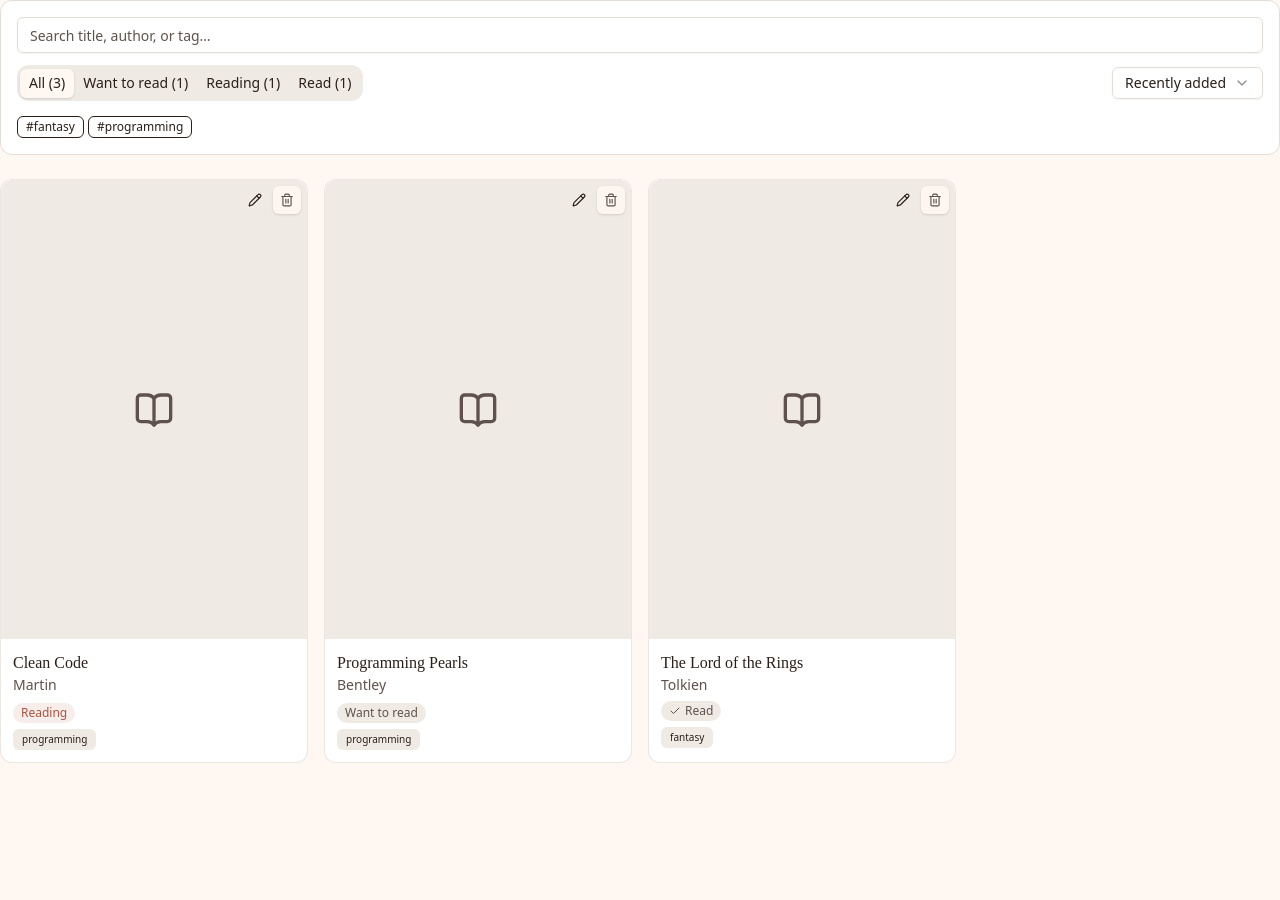
Test case: ShelfList › combined filters (spec 010) › AND-combines search, tags, and status
The width and height of the screenshot is (1280, 900).
// Click "Reading" status tab — only Clean Code (programming) survives.
Click the tab "Reading (1)".
click(243, 83)  # box left=197, top=68, right=289, bottom=98
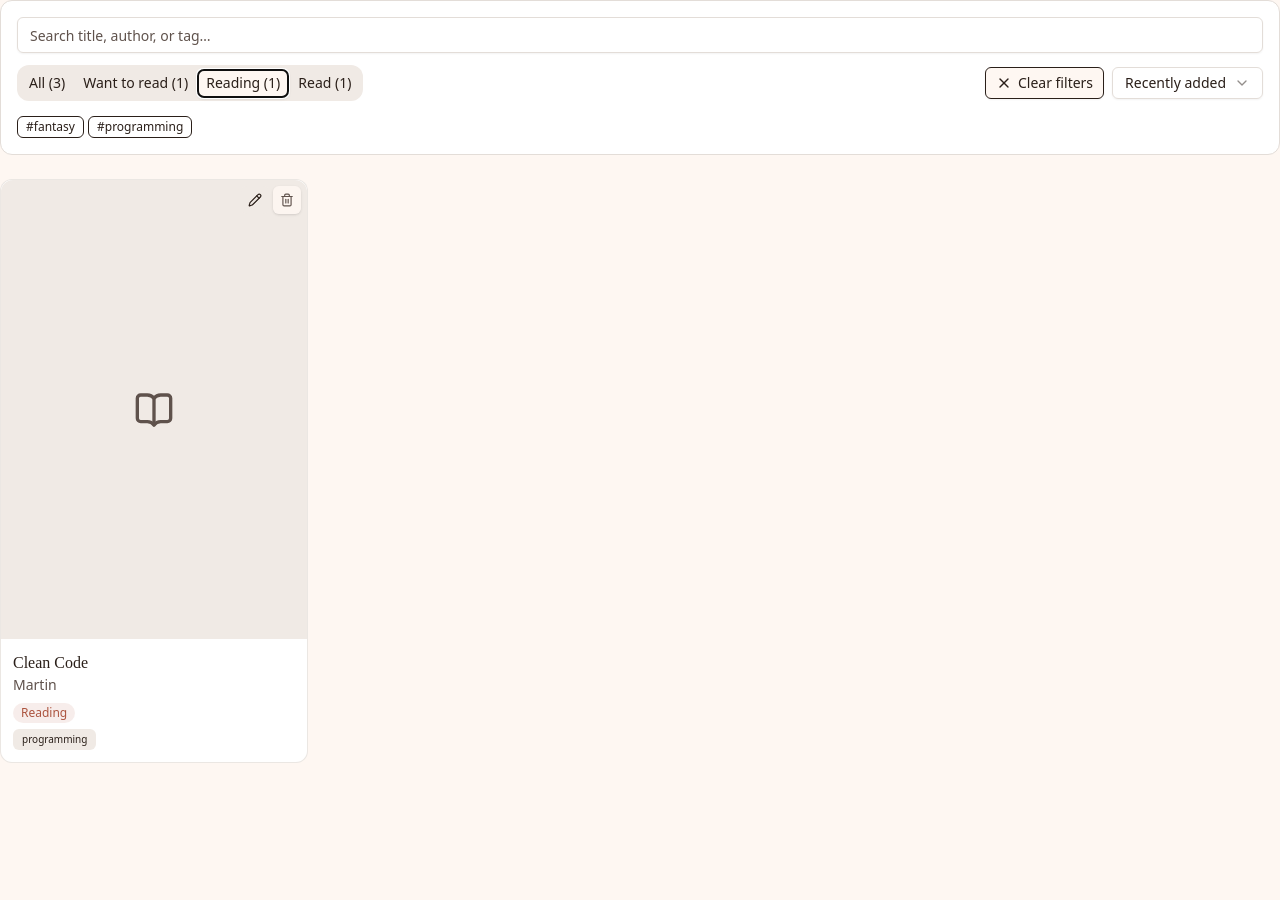
Expected: the heading "Clean Code" is shown, left=13, top=654, right=88, bottom=671
Expected: the link "The Lord of the Rings" is gone
Expected: the link "Programming Pearls" is gone
// Now click the "programming" tag chip — Clean Code still matches.
Click the checkbox with test id "shelf-tag-programming".
click(140, 126)  # box left=88, top=113, right=192, bottom=138
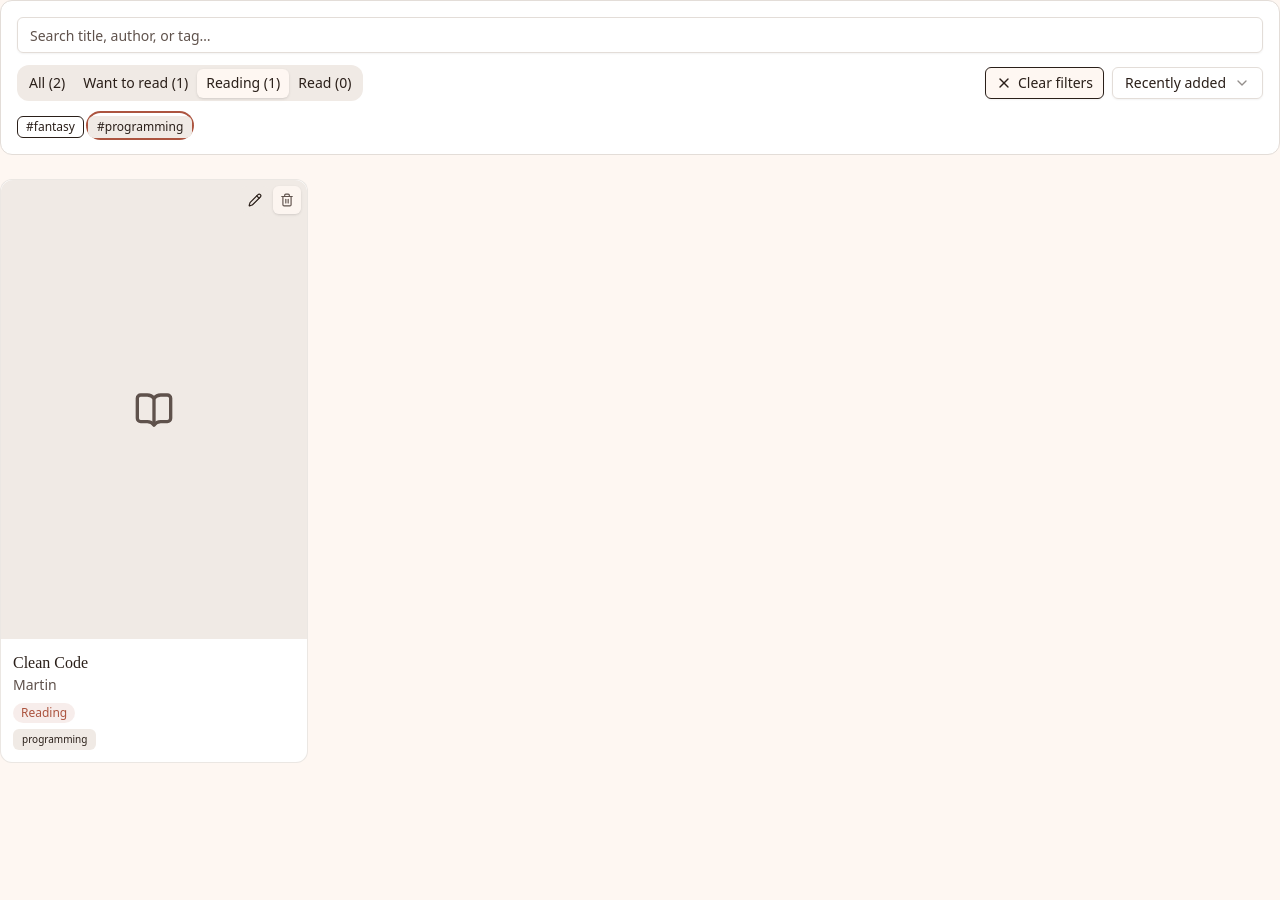
Expected: the heading "Clean Code" is shown, left=13, top=654, right=88, bottom=671
// Now type "knuth" — no books match → empty result.
Type "knuth" into the search field with test id "shelf-search".
click(640, 35); type("knuth")  # box left=17, top=17, right=1263, bottom=53
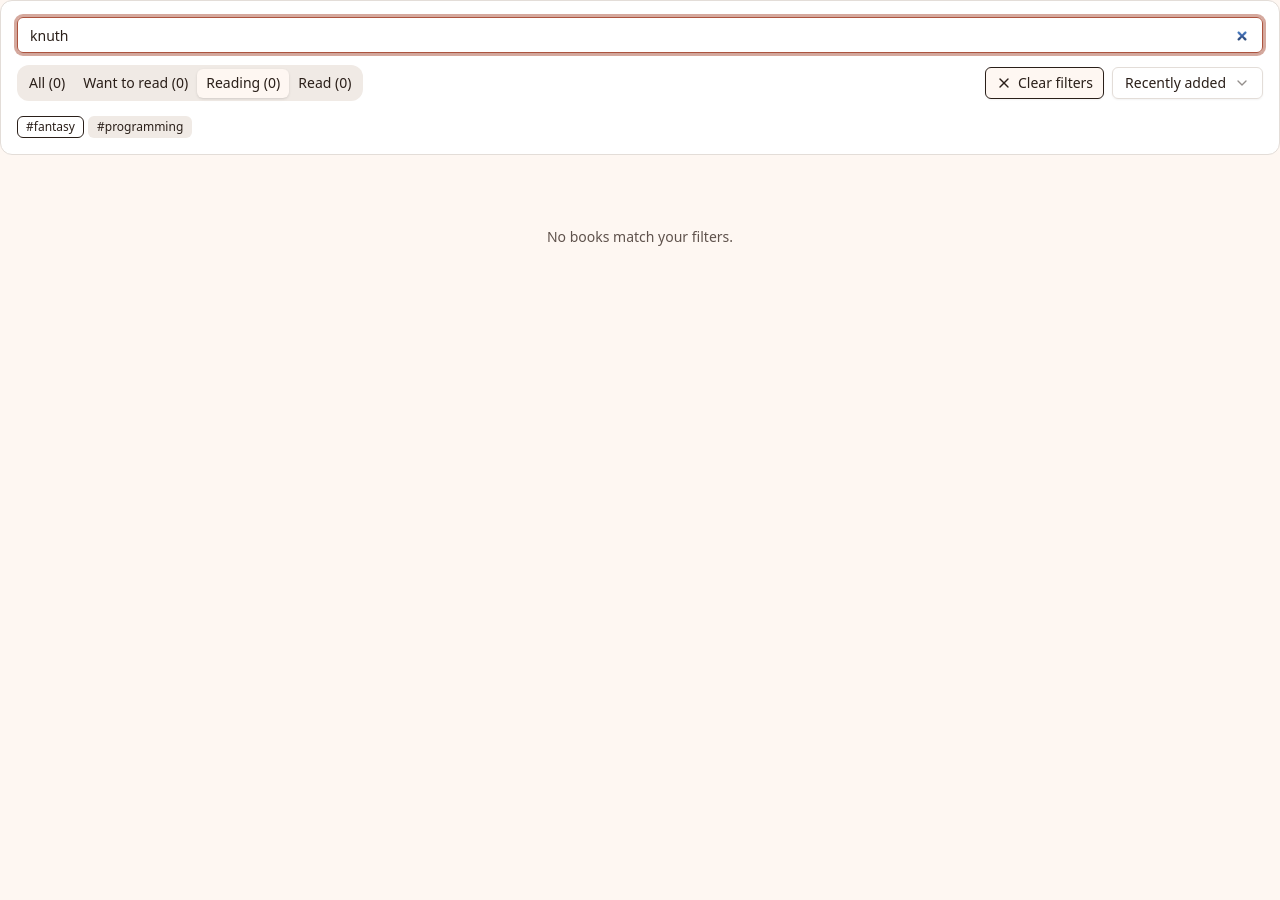
Expected: the link "Clean Code" is gone
Expected: the text "No books match your filters." is shown, left=547, top=227, right=733, bottom=246
